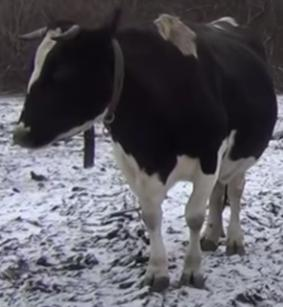cow: (15, 20, 277, 291)
